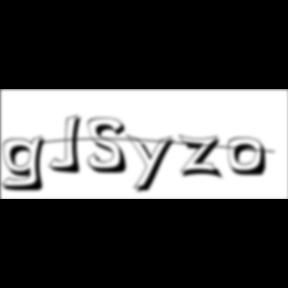J: (50, 114, 88, 176)
S: (88, 117, 134, 176)
g: (1, 134, 53, 194)
o: (228, 137, 270, 179)
y: (126, 132, 180, 196)
z: (179, 134, 228, 182)
